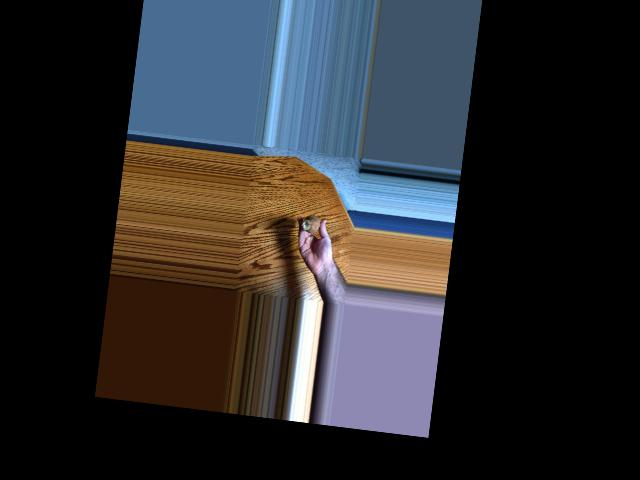sweet_potato: (302, 212, 321, 233)
